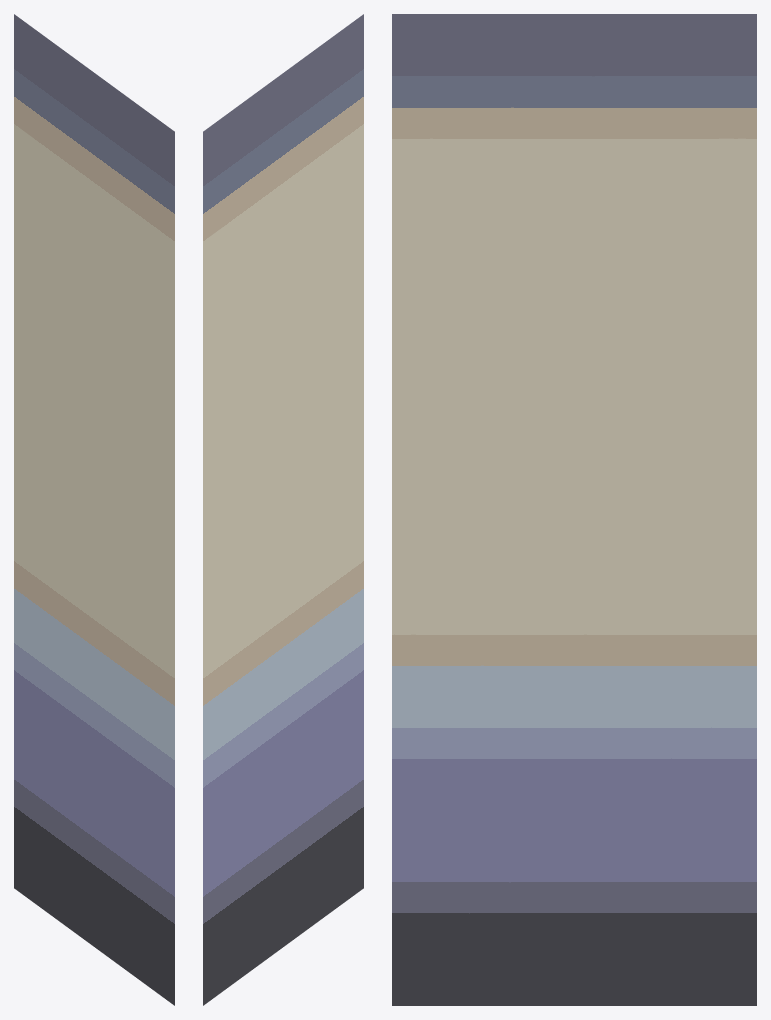
3 views of the same model, side by side, from view 1: azimuth 30°, elevation 25°; view 2: azimuth 150°, elevation 25°; view 3: azimuth 270°, elevation 25° (orthographic). The views are drawn at different scales.
Bounding box in the file's own units: 0 × 3 × 1.
Materials: 1 (1 with a texture image).
